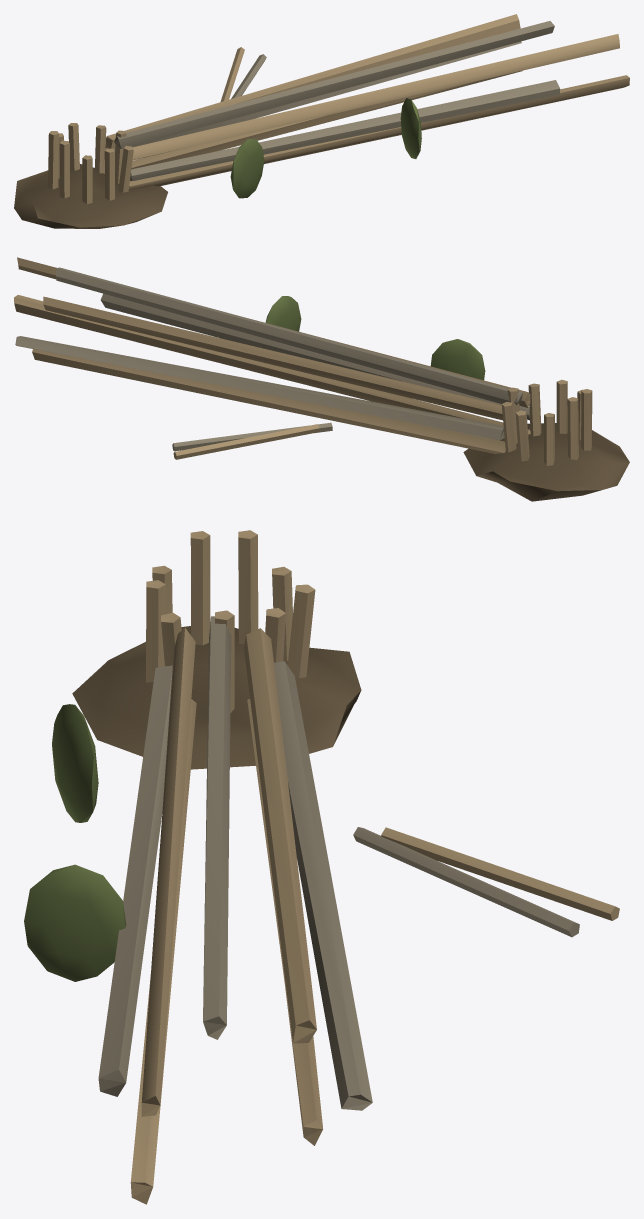
The model's file is saguaro_bones_a.glb.
The picture shows the model from 3 angles, top to bottom: view 1: azimuth 30°, elevation 25°; view 2: azimuth 150°, elevation 25°; view 3: azimuth 270°, elevation 25°; orthographic projection. The views are drawn at different scales.
Visible parts, largest first — view 1: Surface; view 2: Surface; view 3: Surface.
Part boxes in pixels (x1=…): Surface: x1=14, y1=14, x2=629, y2=228; Surface: x1=14, y1=257, x2=629, y2=501; Surface: x1=24, y1=530, x2=619, y2=1204.
Size of the model in its own units: 4.99 by 0.7036 by 2.21.
